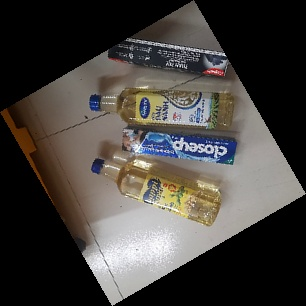CloseUp Tuyet: (119, 126, 238, 166)
Colgate Than: (107, 32, 230, 81)
Happy Soya: (90, 157, 223, 228)
Simply: (88, 86, 237, 132)
